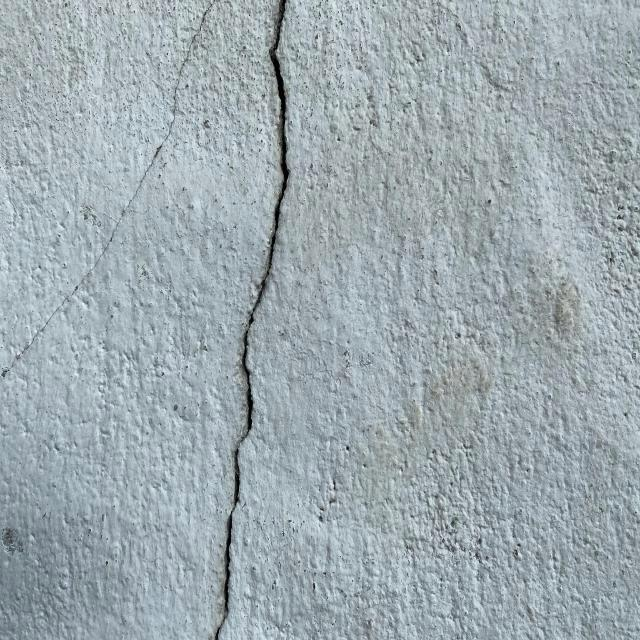SurfaceCrack: (160, 0, 339, 640)
